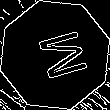M_W: (24, 26, 86, 84)
